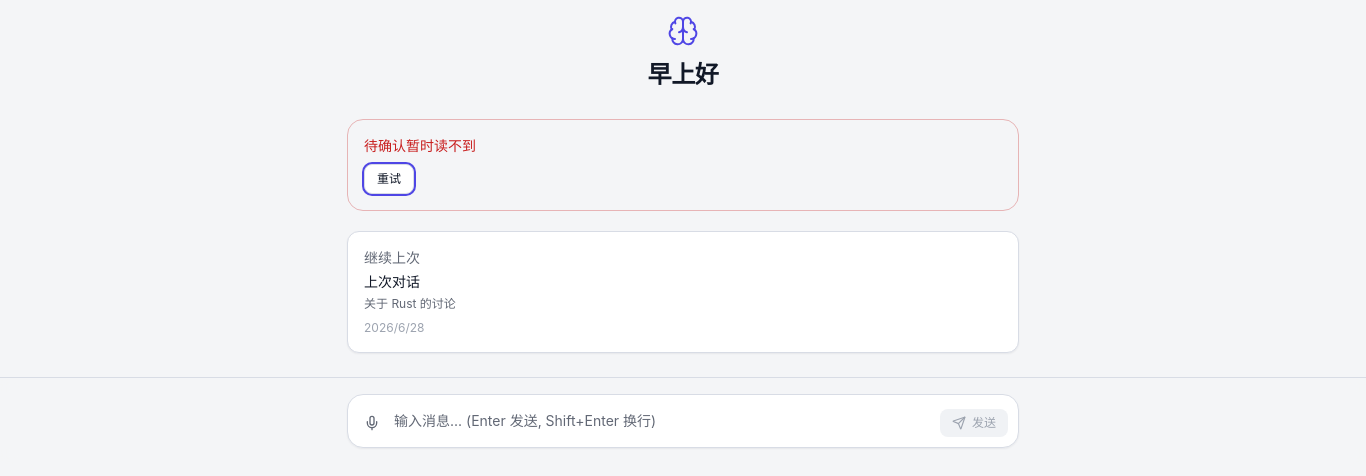
Scenario: ChatHome › does not treat a failed proposed-memory count as an empty home
The image size is (1366, 476).
Expected: the message with test id "chat-home-load-error" shows "待确认暂时读不到", [364,137,476,154]
Expected: the text "我还不太了解你" is not shown
Step 1. Click the button "重试" → x=389, y=179, box [364,164,414,194]
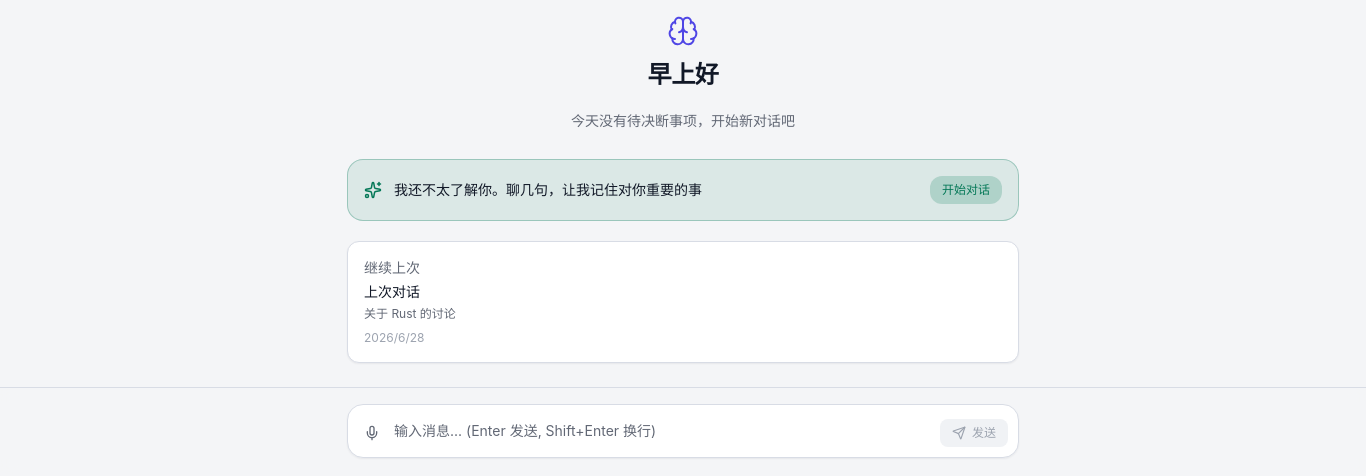
Expected: the text "我还不太了解你。聊几句，让我记住对你重要的事" is shown, [394,181,702,198]
Expected: the message with test id "chat-home-load-error" is gone
